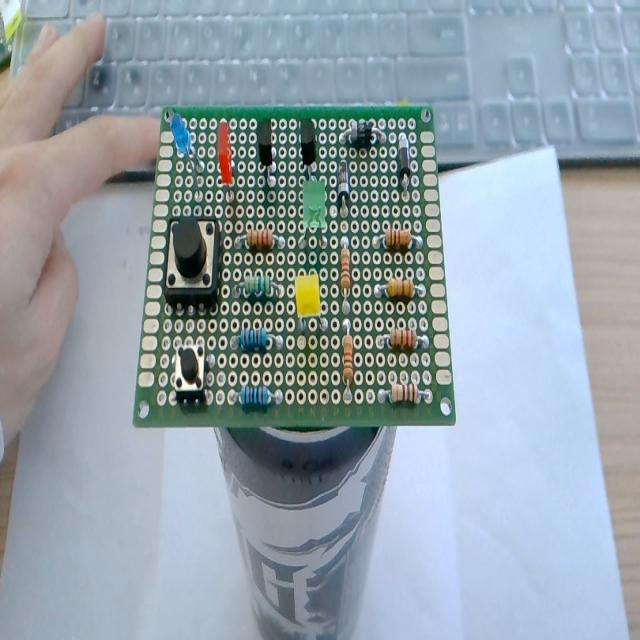diode: (393, 130, 415, 206), (336, 117, 386, 148), (335, 156, 355, 218)
led: (167, 109, 206, 200), (214, 119, 241, 208), (294, 269, 328, 335), (298, 179, 329, 251)
resistor: (227, 379, 286, 414), (228, 323, 290, 354), (372, 273, 430, 306), (377, 380, 436, 411), (229, 271, 286, 303), (370, 322, 430, 352), (370, 224, 426, 254), (232, 226, 288, 253), (341, 317, 357, 405), (337, 236, 355, 313)
switch: (161, 212, 223, 315), (169, 338, 214, 407)
transistor: (251, 114, 287, 194), (294, 117, 321, 185)
